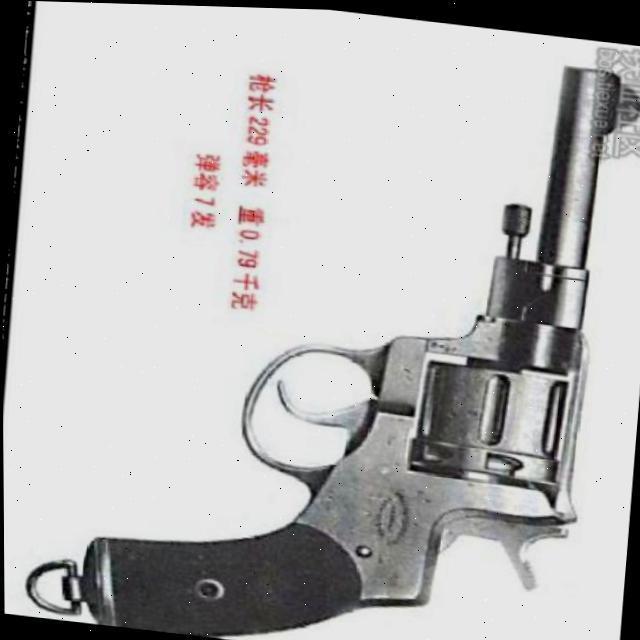gun: (71, 6, 640, 640)
